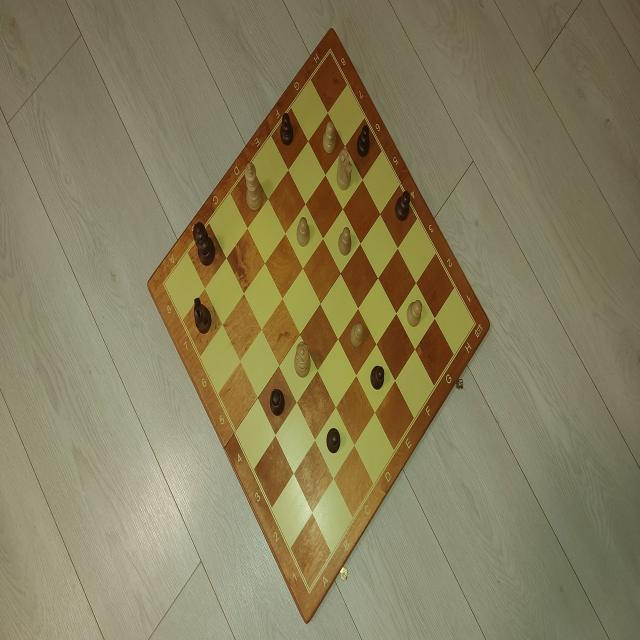chess-table-corners: (300, 574, 318, 602), (464, 312, 481, 338), (158, 269, 174, 295), (321, 42, 338, 66)
